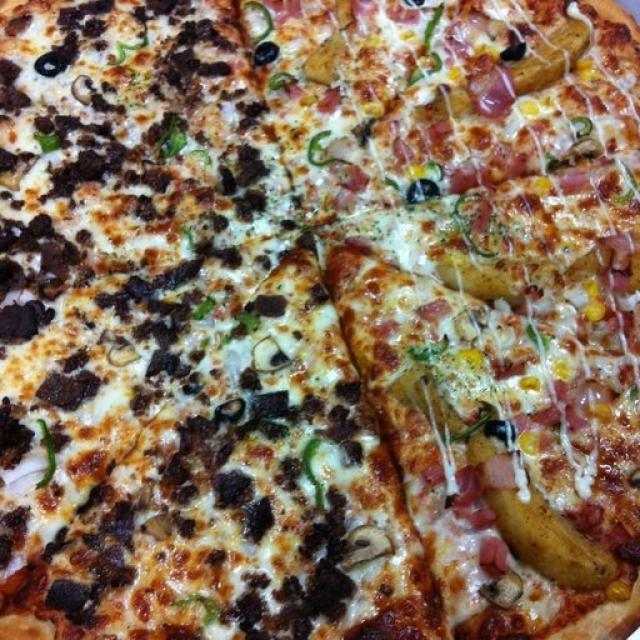Beef: (164, 413, 215, 525), (0, 216, 74, 291), (212, 142, 272, 230), (113, 274, 198, 333), (289, 558, 352, 628), (235, 567, 293, 640), (170, 18, 228, 90), (96, 489, 137, 590), (246, 375, 312, 437), (210, 470, 269, 538), (303, 491, 346, 562), (53, 150, 116, 196), (40, 566, 90, 616), (150, 323, 192, 382), (56, 2, 106, 51), (120, 165, 184, 200), (0, 48, 32, 114), (39, 367, 88, 407), (52, 576, 99, 614), (4, 298, 40, 346), (0, 131, 18, 174)
Eggs: (510, 90, 548, 136)
Green Pepper: (445, 196, 490, 262), (413, 0, 447, 78), (163, 589, 229, 629), (312, 117, 352, 181), (35, 408, 63, 496), (302, 431, 329, 508), (406, 325, 459, 359), (154, 114, 190, 159), (244, 0, 274, 52), (226, 300, 260, 334), (267, 70, 299, 96), (38, 118, 62, 152), (193, 284, 213, 321)
Ham: (439, 149, 533, 197), (531, 386, 606, 444), (442, 454, 491, 534), (471, 442, 524, 497), (472, 49, 515, 115), (468, 525, 513, 567), (594, 231, 632, 272), (417, 290, 456, 316)
Mushrooms: (478, 570, 526, 608), (346, 523, 392, 561), (63, 71, 96, 115), (256, 331, 291, 372), (106, 336, 145, 366)
Olives: (38, 47, 62, 80)
